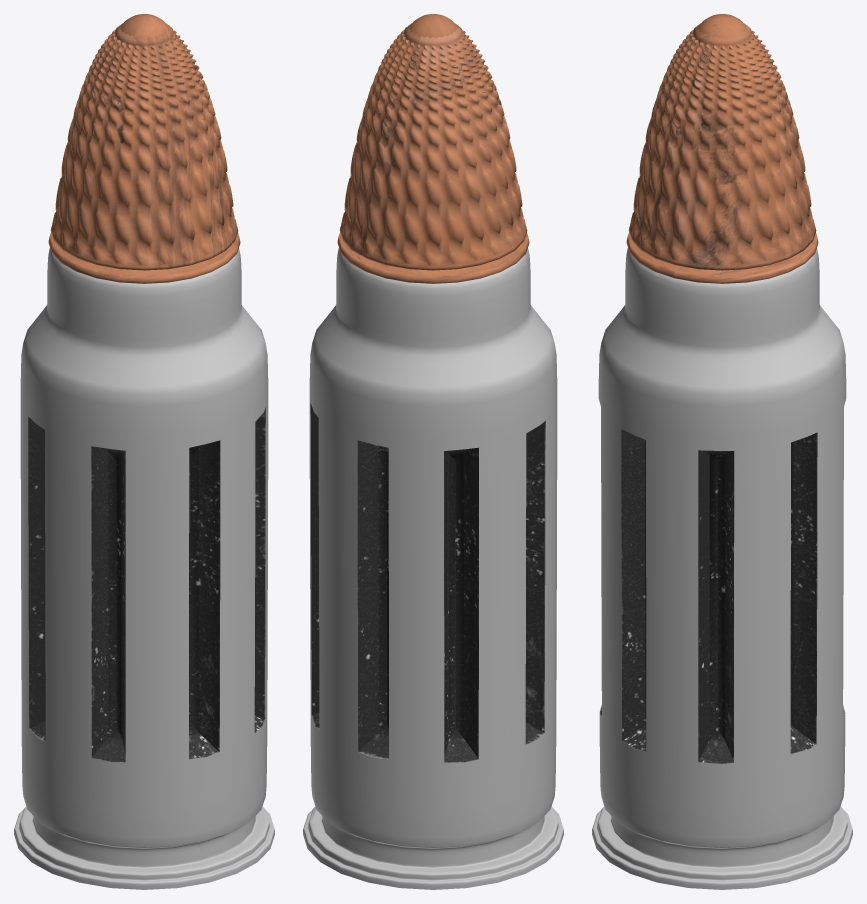
File: Rocket.fbx
3 views of the same model, side by side, from view 1: azimuth 30°, elevation 25°; view 2: azimuth 150°, elevation 25°; view 3: azimuth 270°, elevation 25° (orthographic).
Parts seen in each view (by area): view 1: defaultMaterial, defaultMaterial.002, defaultMaterial.001; view 2: defaultMaterial, defaultMaterial.002, defaultMaterial.001; view 3: defaultMaterial, defaultMaterial.002, defaultMaterial.001.
Part boxes in pixels (box(x1,y1,x2,y2)): defaultMaterial: box(14, 248, 274, 889); defaultMaterial.002: box(48, 14, 240, 283); defaultMaterial.001: box(28, 407, 265, 762); defaultMaterial: box(303, 248, 563, 889); defaultMaterial.002: box(337, 14, 529, 283); defaultMaterial.001: box(310, 403, 545, 762); defaultMaterial: box(592, 248, 852, 889); defaultMaterial.002: box(626, 14, 818, 283); defaultMaterial.001: box(599, 429, 845, 764).
Size of the model in its own units: 21.97 by 76.06 by 21.97.
